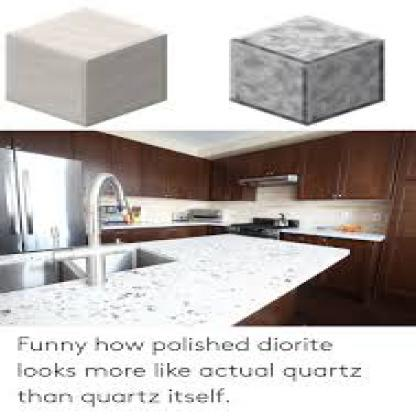Sedimentary_Chalk: (2, 3, 181, 123)
